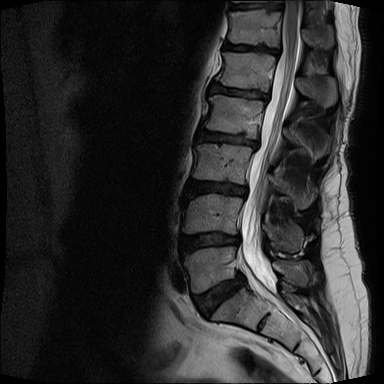Degenerative Disc Disease (DDD): (202, 80, 280, 106), (218, 39, 284, 60), (221, 1, 288, 15)
Lumbar Disc Bulge (LDB): (186, 262, 253, 325), (174, 223, 248, 260), (180, 174, 255, 202), (192, 126, 266, 153)
Spinal Stenosis (SS): (224, 169, 260, 207), (229, 223, 251, 247)
